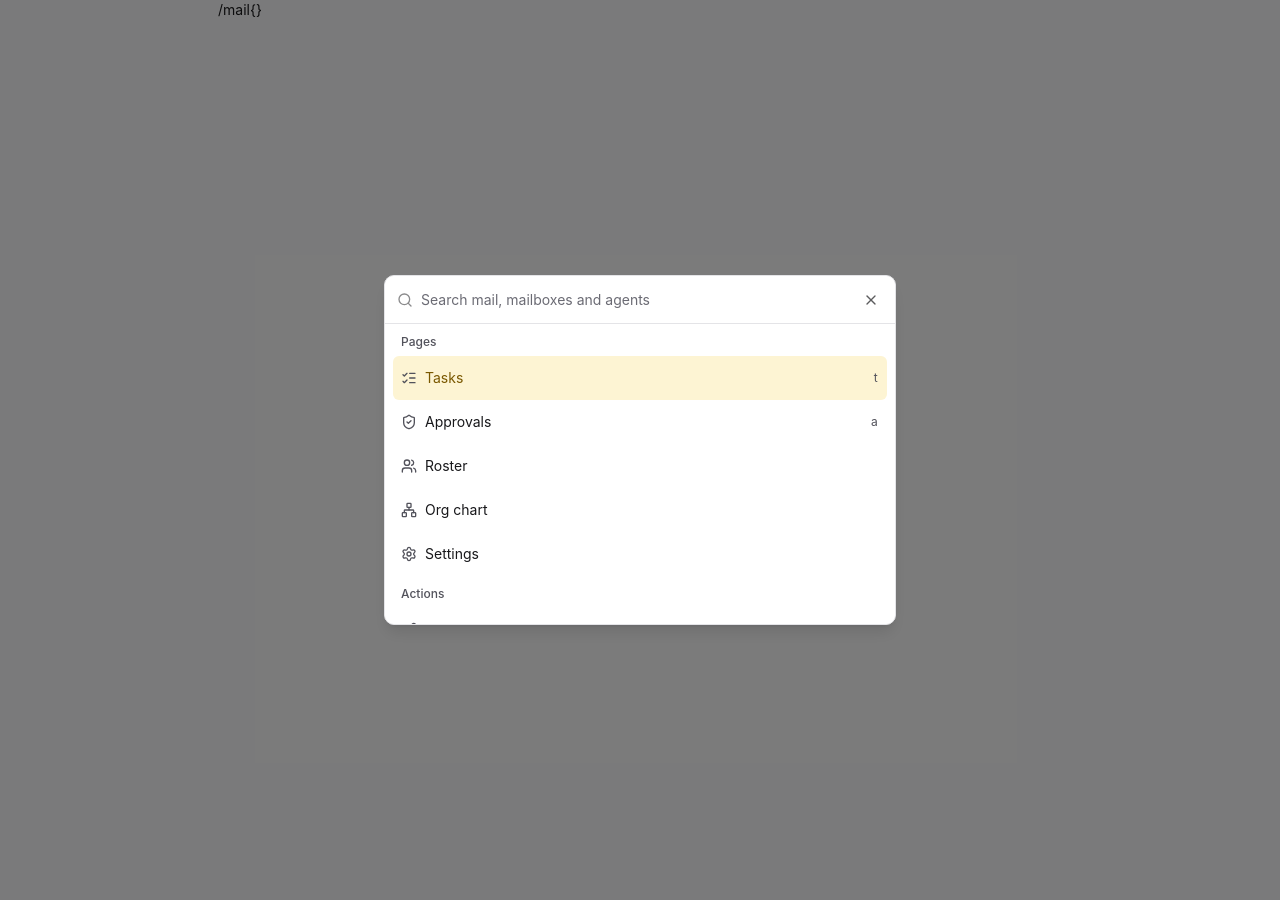
Test: CommandPalette › offers Search all mail and opens the search page with the query
In the dropdown with placeholder "Search mail, mailboxes and agents": (652, 300) [421,276,883,324], type "zebra"
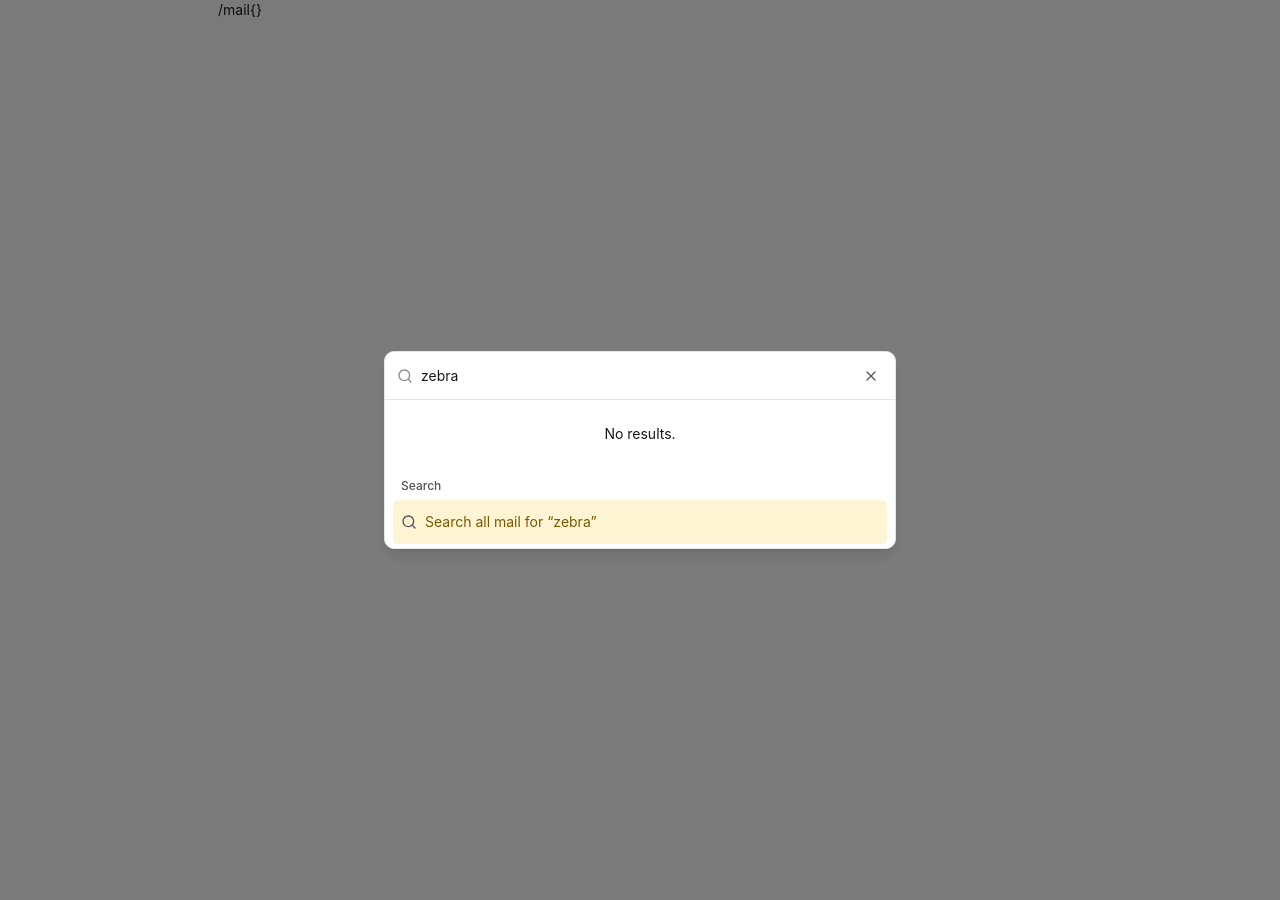
Click the option "Search all mail for “zebra”": (489, 522) [393,500,887,544]
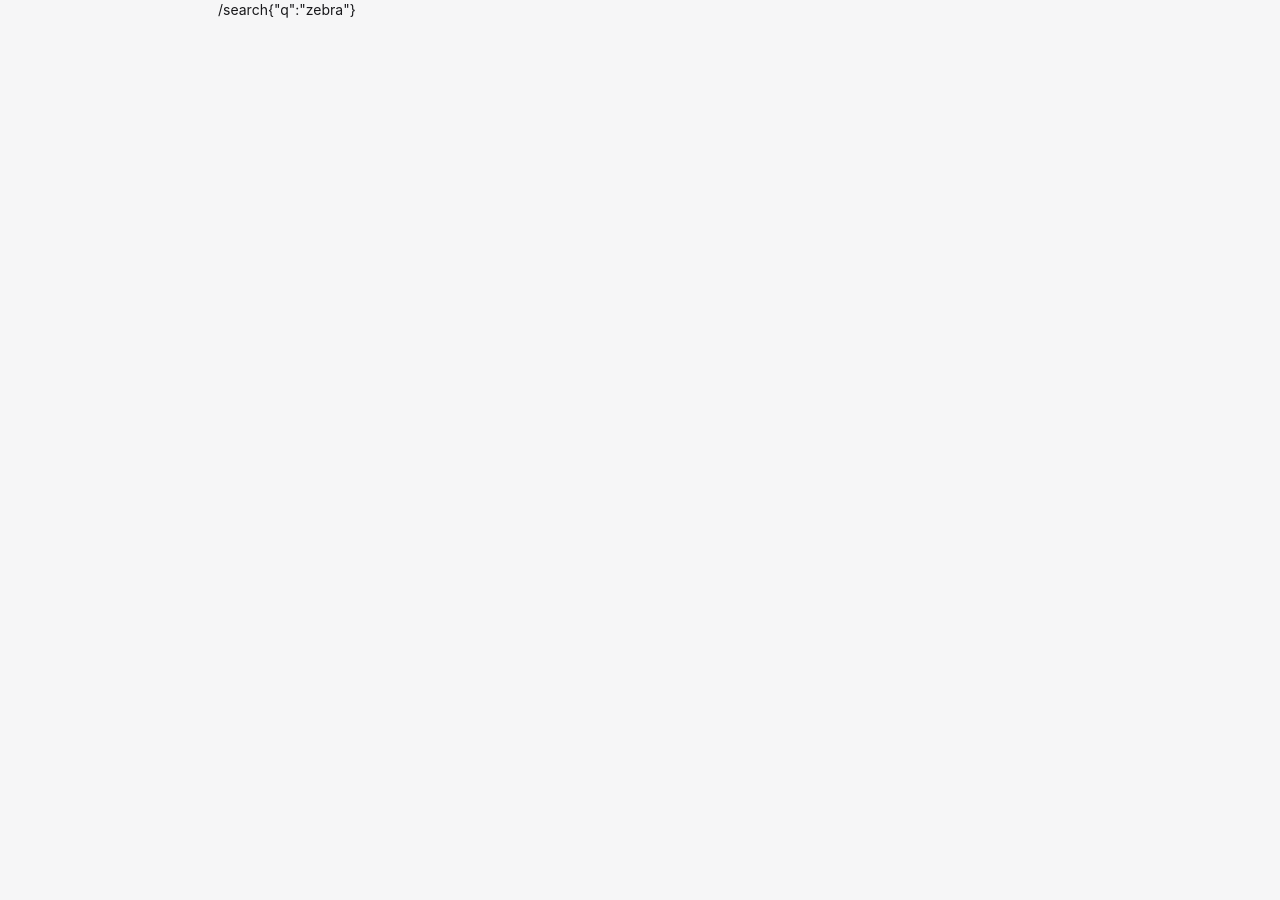
Now the text with test id "loc" reads "/search{\"q\":\"zebra\"}", box [218,1,356,18]
